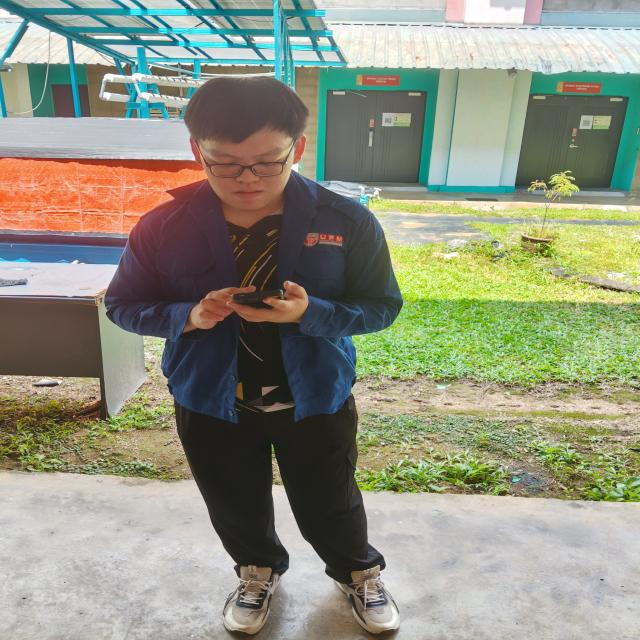person_with_labcoat: (105, 76, 402, 634)
